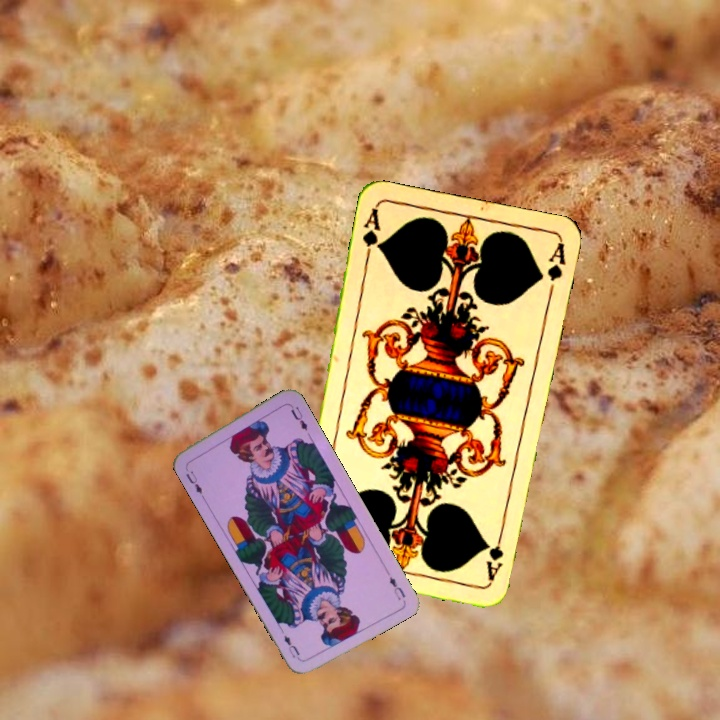EU: (385, 572, 408, 603), (182, 467, 205, 496)
GA: (358, 203, 384, 263), (482, 525, 507, 583)
